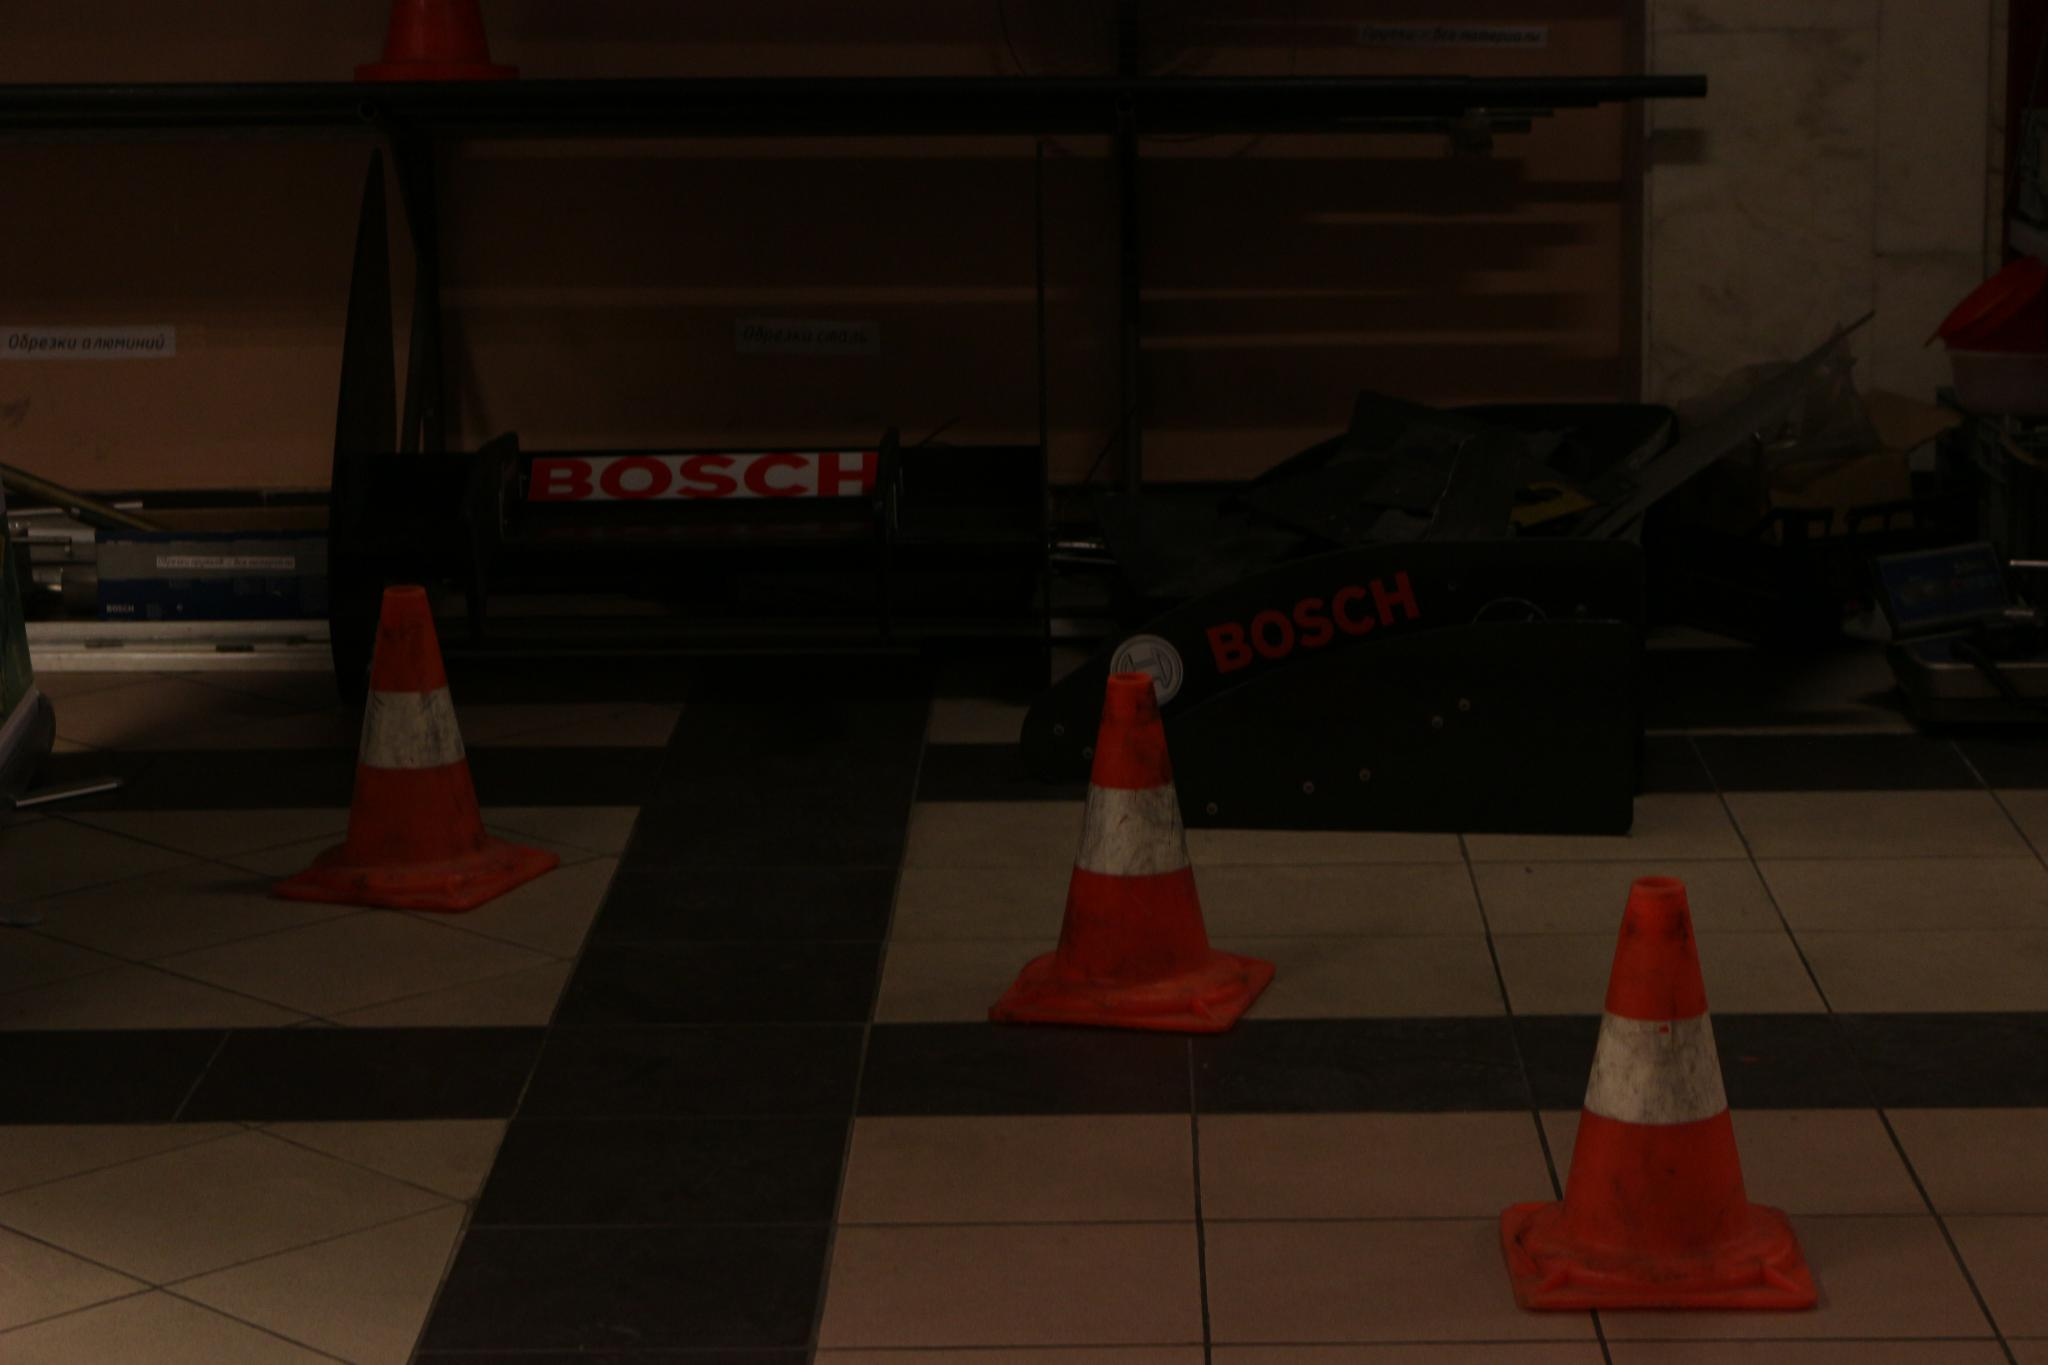Orange_Cone: (1488, 868, 1830, 1330), (988, 660, 1281, 1036), (268, 574, 556, 922), (356, 0, 521, 88)
